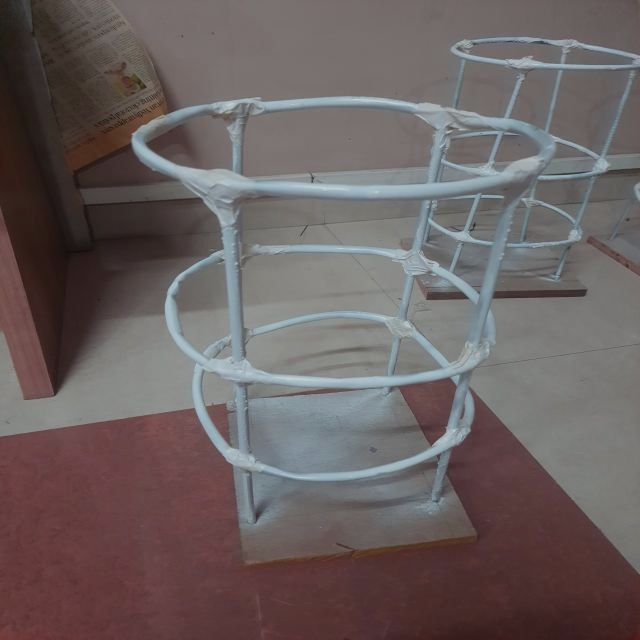silo: (133, 93, 552, 583), (417, 34, 640, 296)
